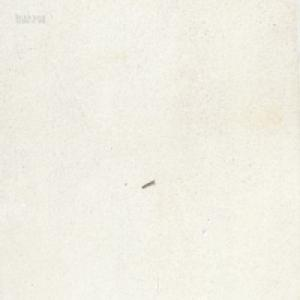Bolt: (140, 177, 154, 188)
